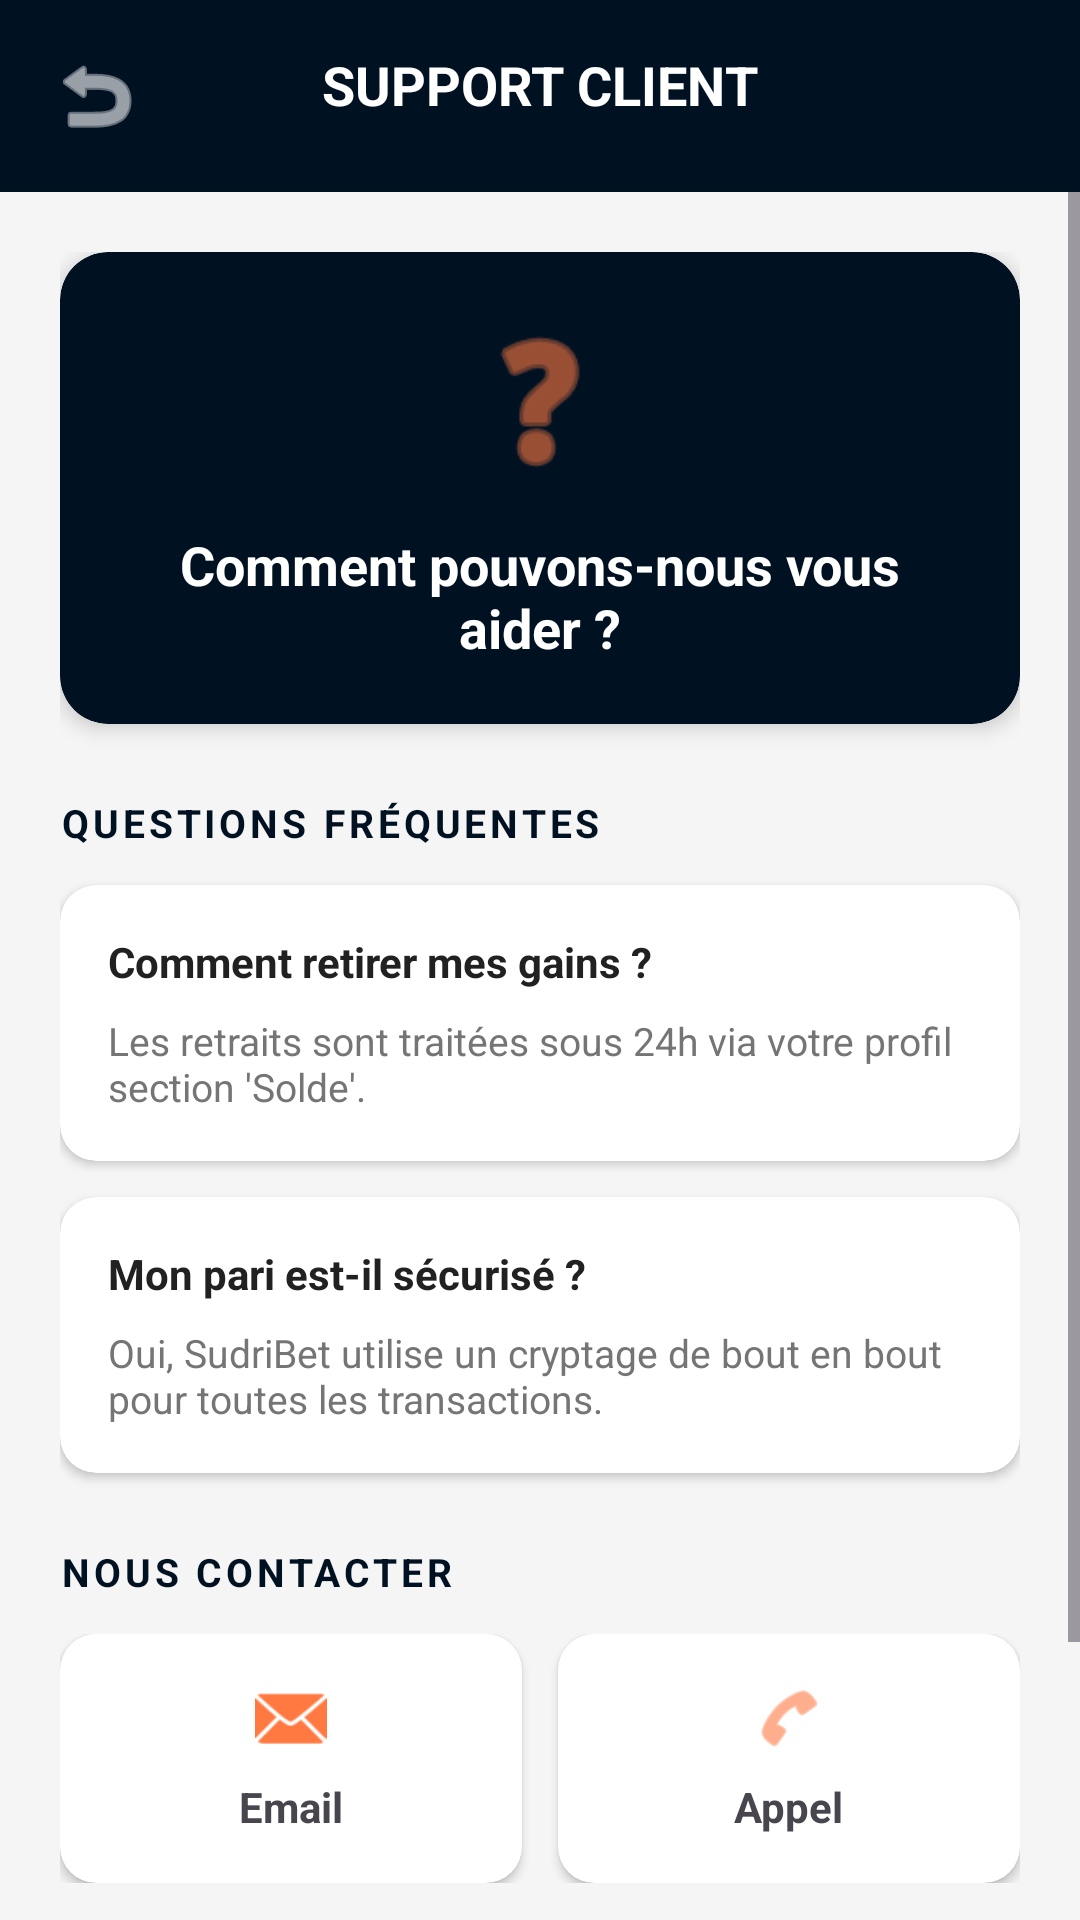

Icons on this 1080*1920 Android screen, each with the point to tap as point (x, y):
call: point (789, 1718)
help: point (540, 402)
revert: point (97, 96)
